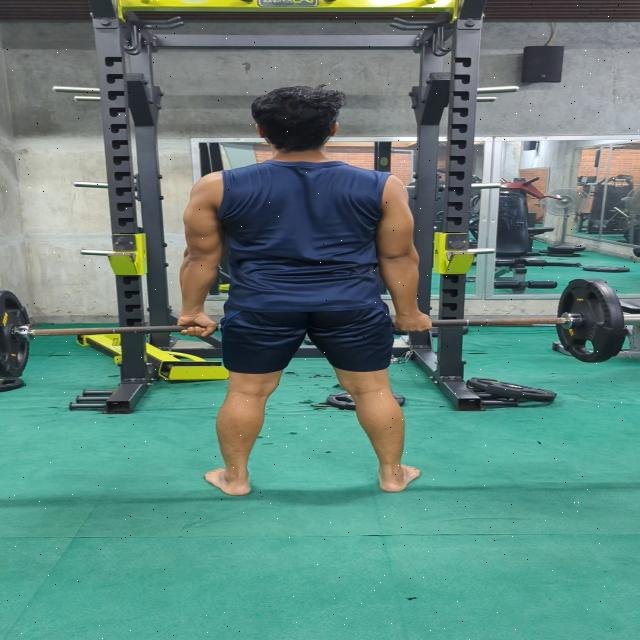Normal_Deadlifts: (174, 83, 438, 497)
